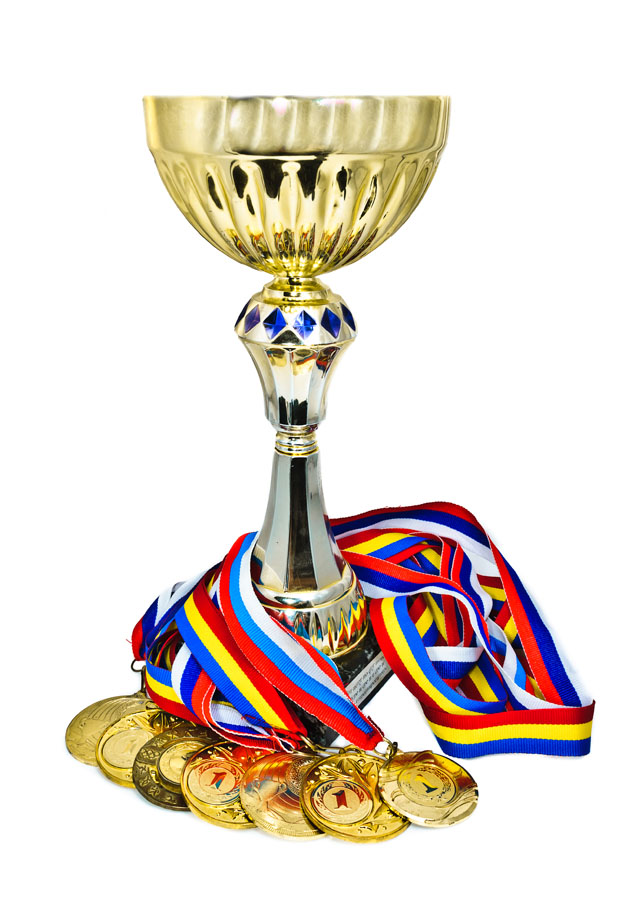trophy: (139, 89, 447, 741)
